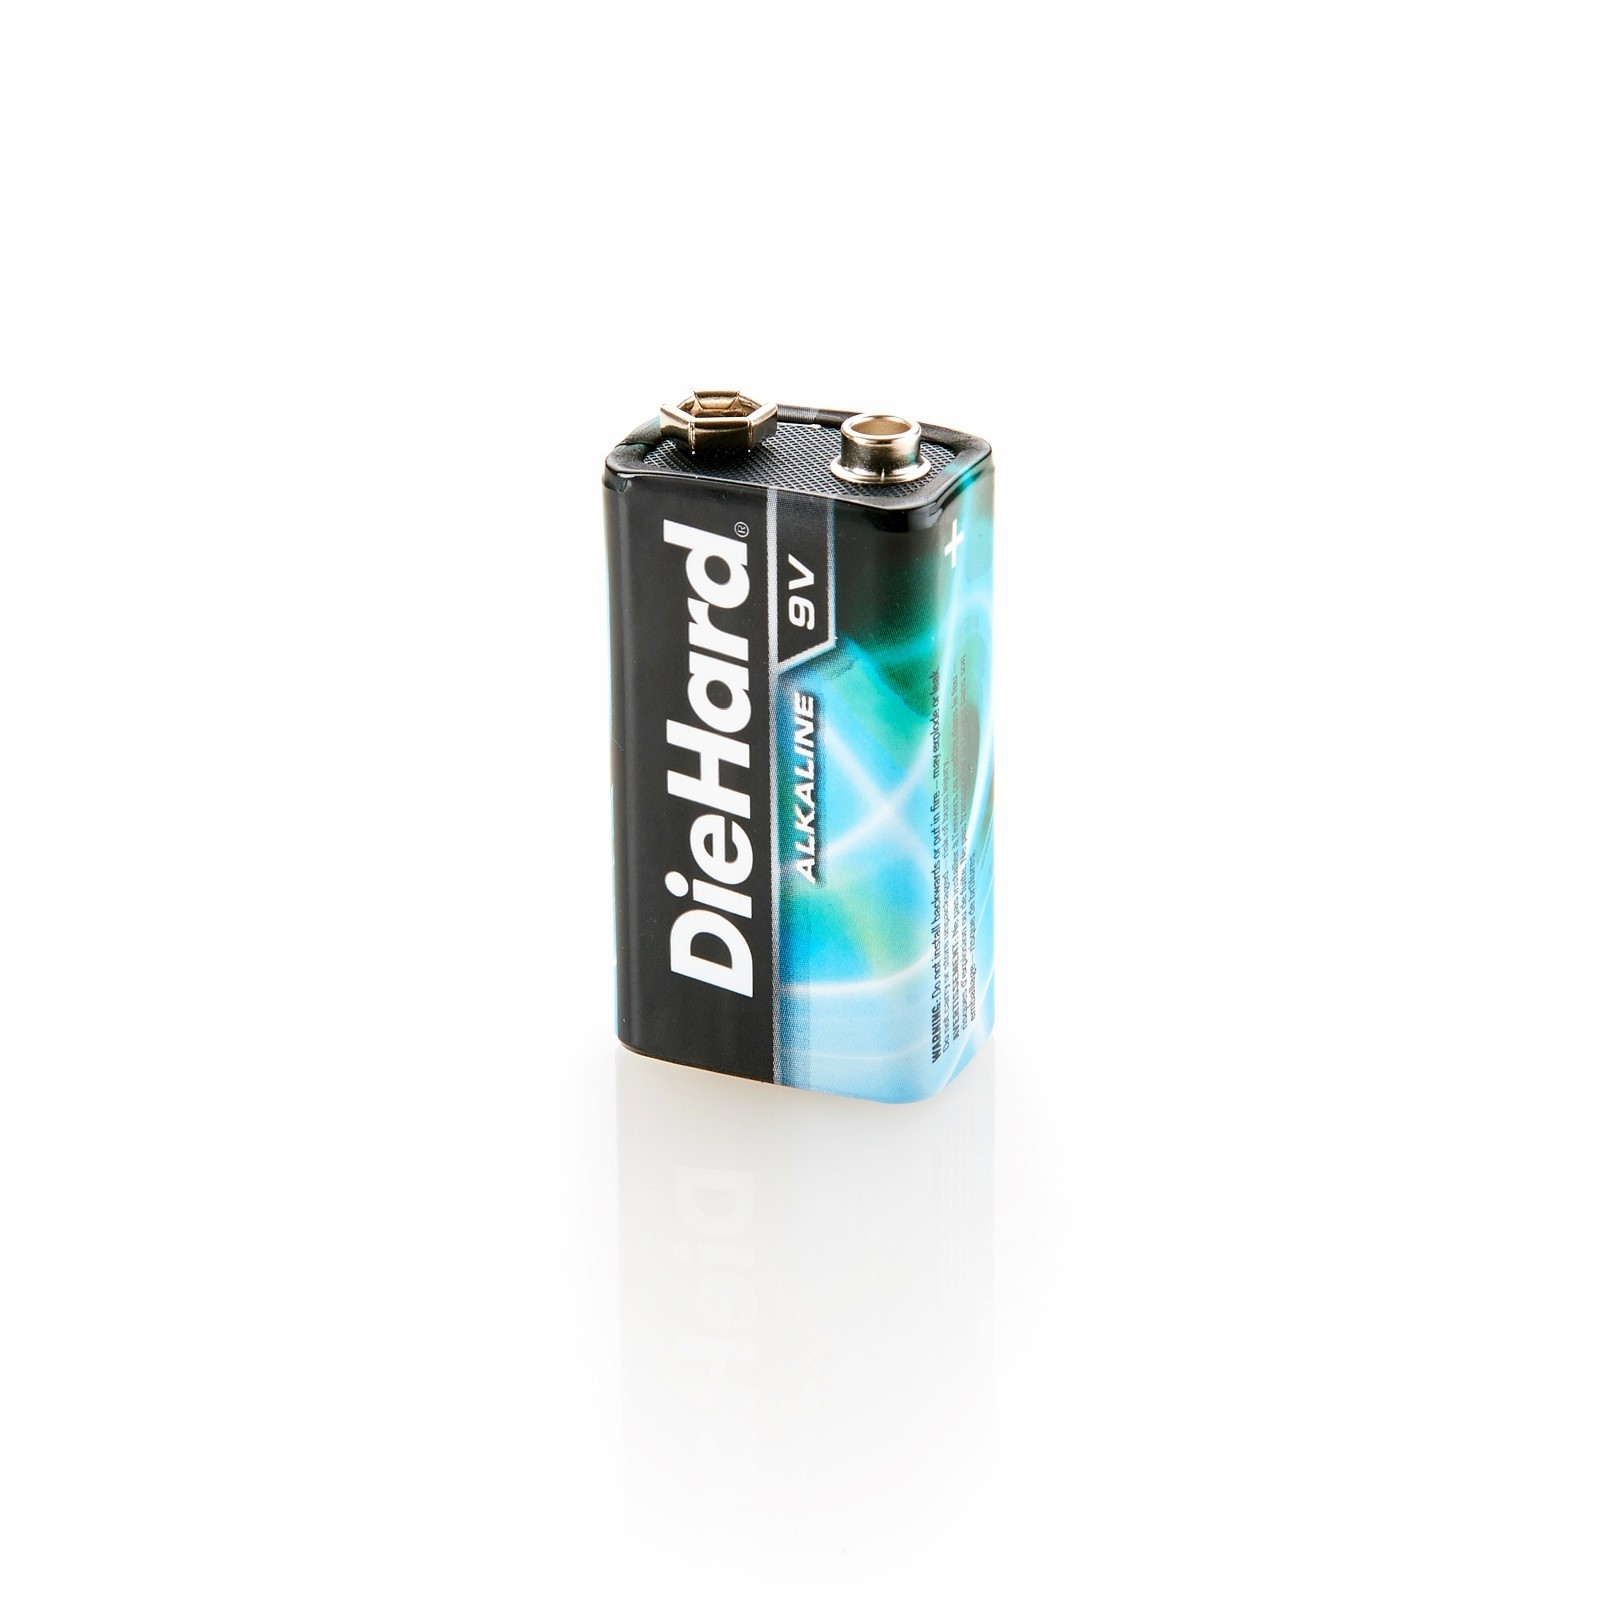9V: (590, 375, 1020, 1124)
